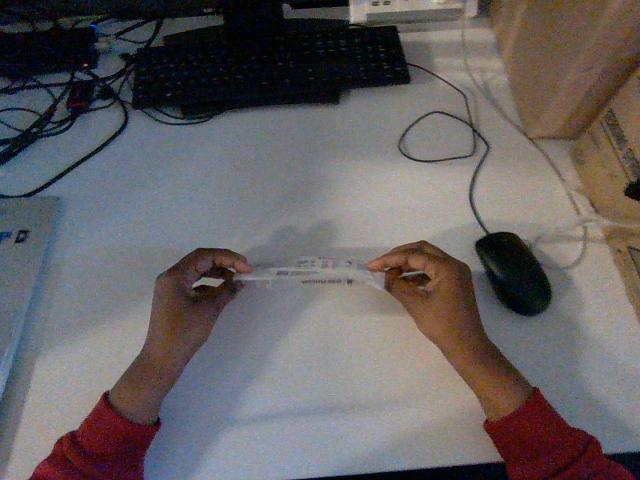syringe: (234, 257, 383, 289)
